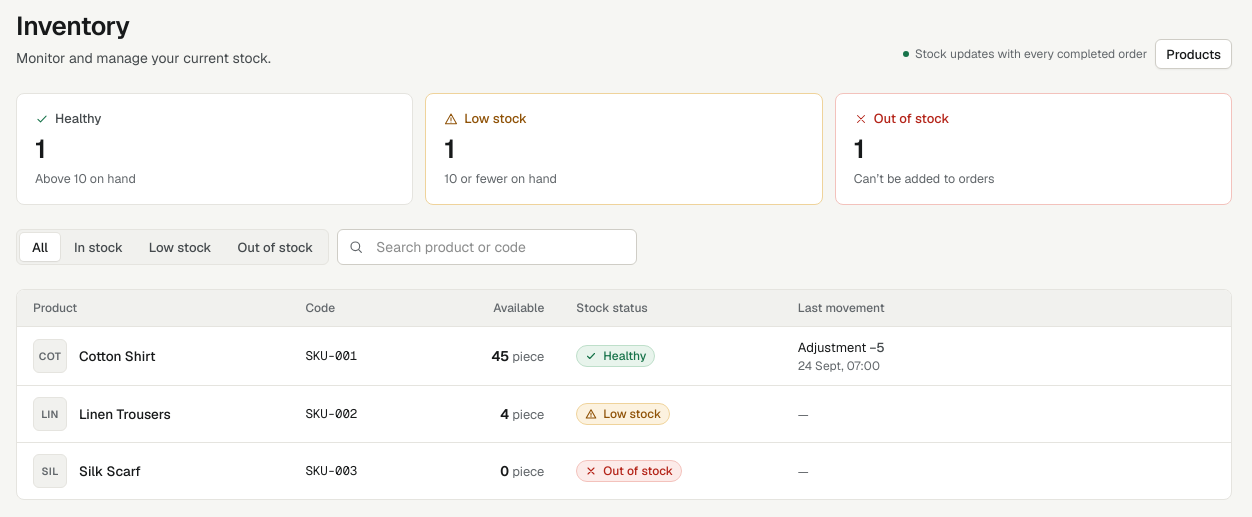
Test: Inventory Frontend Slice (INV-005) › InventoryView (R4 design) › filters by summary card and by search
expect the table shows "Silk Scarf": met, box [79, 461, 141, 481]
Click the button named "out of stock1".
click(911, 118)  # box [835, 93, 1232, 205]
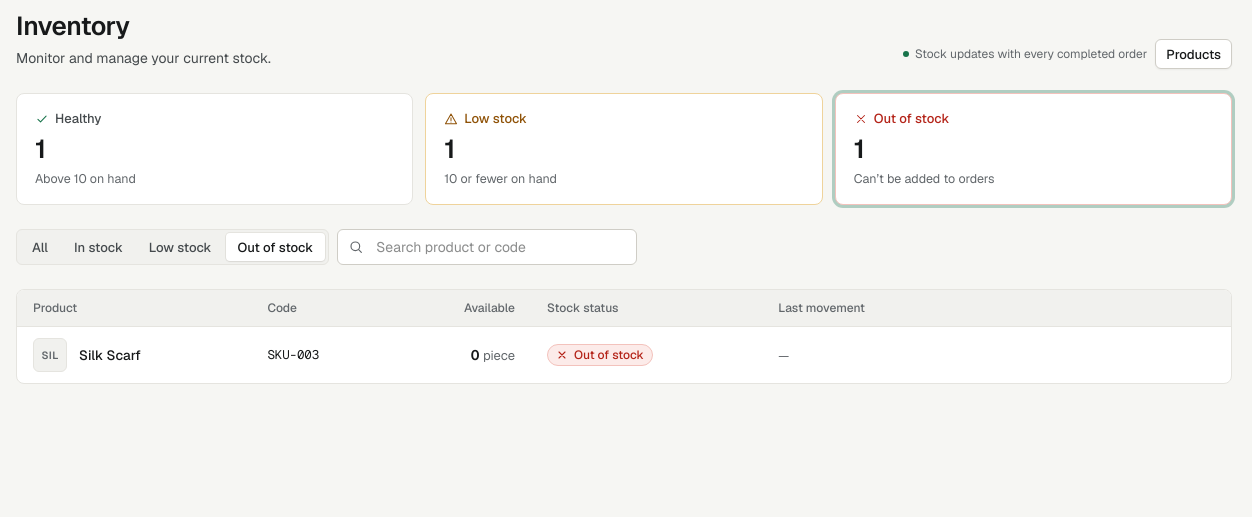
expect the table shows "Silk Scarf": met, box [79, 345, 141, 365]
expect the table no longer shows "Cotton Shirt": met, box [17, 290, 1231, 383]
Click the button "All".
click(40, 247)  # box [20, 233, 60, 261]
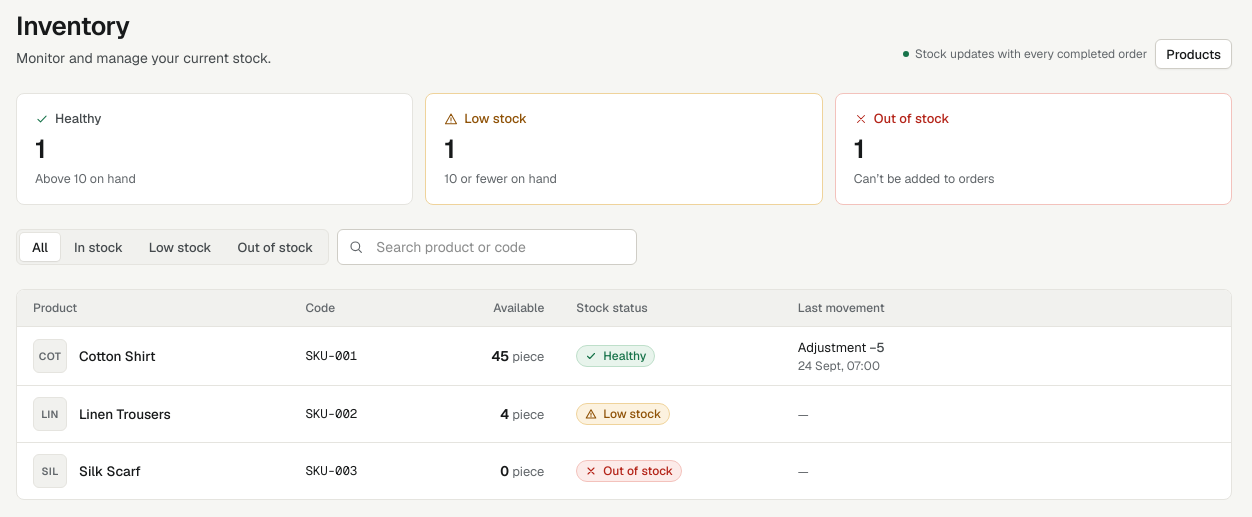
Type "linen" into the field named "Search inventory".
click(500, 247); type("linen")  # box [364, 230, 636, 264]
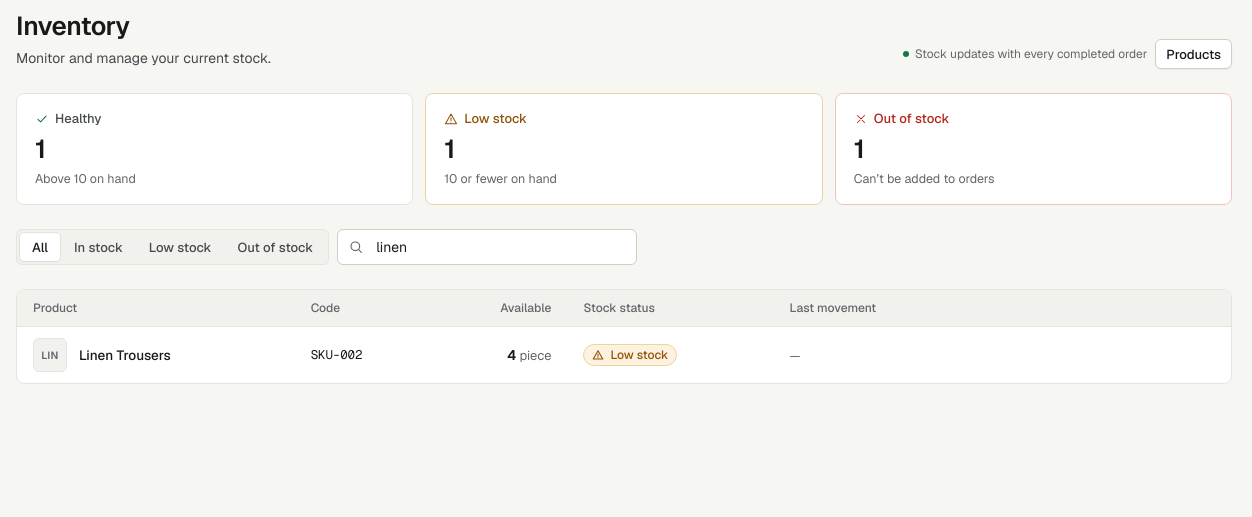
expect the table shows "Linen Trousers": met, box [79, 345, 171, 365]
expect the table no longer shows "Silk Scarf": met, box [17, 290, 1231, 383]
